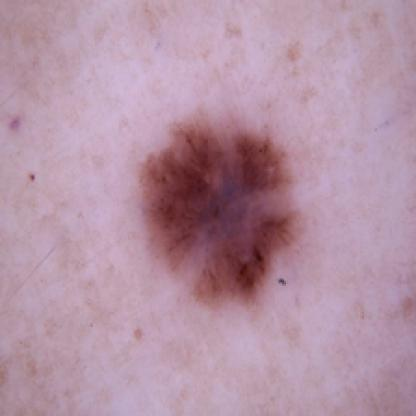benign: (137, 112, 314, 320)
